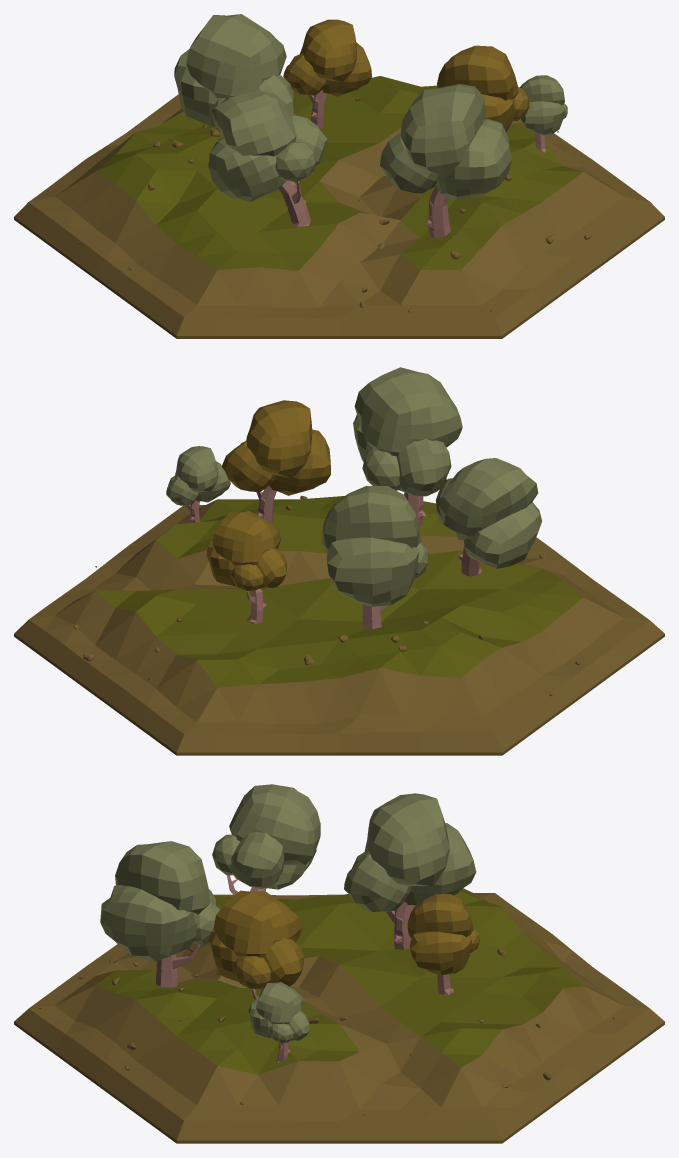
File: tropicalseasonalforest.glb
3 views of the same model, one above another, from view 1: azimuth 30°, elevation 25°; view 2: azimuth 150°, elevation 25°; view 3: azimuth 270°, elevation 25° (orthographic).
Visible parts, largest first — view 1: land; view 2: land; view 3: land.
Boxes of the visible parts, left/top/right/bottom form: land: left=14, top=14, right=664, bottom=338; land: left=14, top=367, right=664, bottom=755; land: left=14, top=784, right=664, bottom=1143.
Size of the model in its own units: 1.73 by 0.6444 by 2.
1 material, 1 textured.
